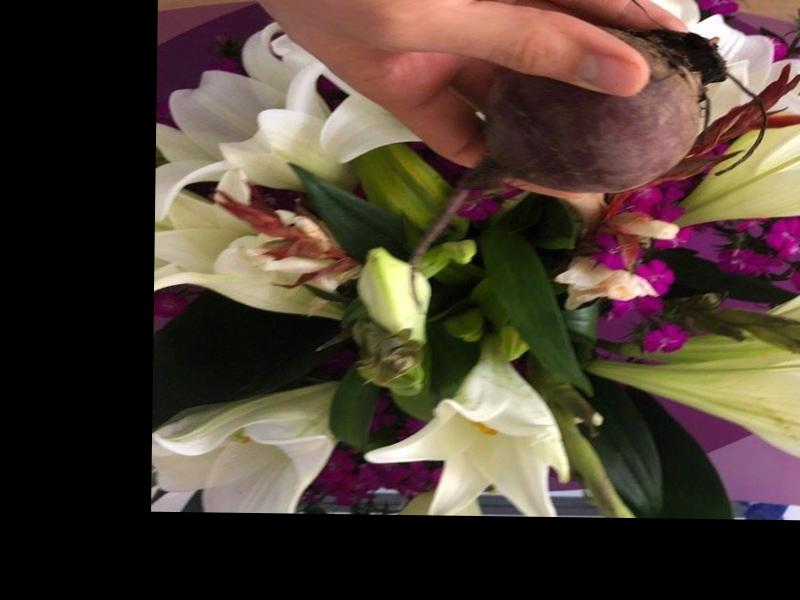Beet: (408, 25, 768, 313)
